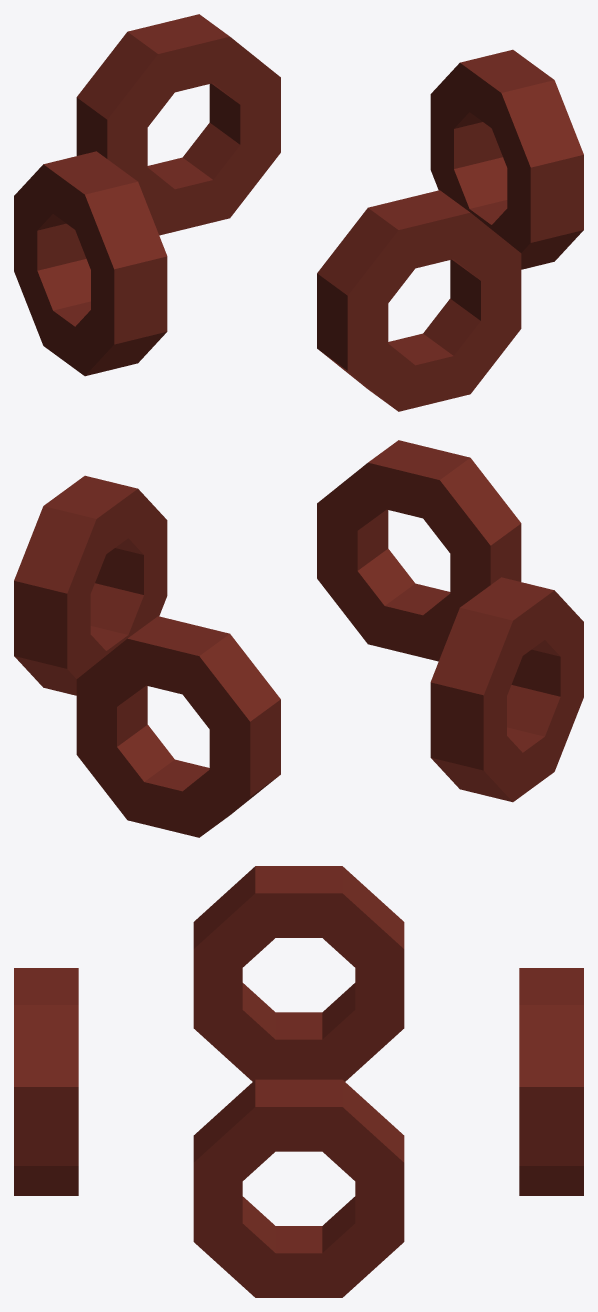
The model's file is rcsh_coils.obj.
3 renders of one model, top to bottom at view 1: azimuth 30°, elevation 25°; view 2: azimuth 150°, elevation 25°; view 3: azimuth 270°, elevation 25°, orthographic. The views are drawn at different scales.
Parts seen in each view (by area): view 1: rcsh_coils; view 2: rcsh_coils; view 3: rcsh_coils.
Part boxes in pixels (x1,y1,x2,y2): rcsh_coils: (14,14,583,411); rcsh_coils: (14,440,583,837); rcsh_coils: (14,866,583,1297).
Size of the model in its own units: 1.5 by 0.5543 by 1.5.
